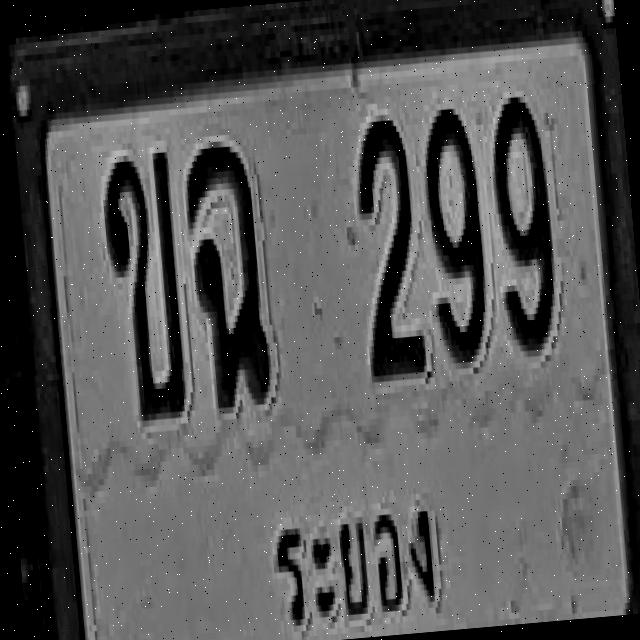11KhorKhai: (100, 148, 188, 418)
18ChorChing: (182, 138, 272, 408)
2: (350, 113, 426, 376)
9: (418, 101, 492, 364), (486, 89, 560, 352)
Rayong: (251, 479, 453, 640)
